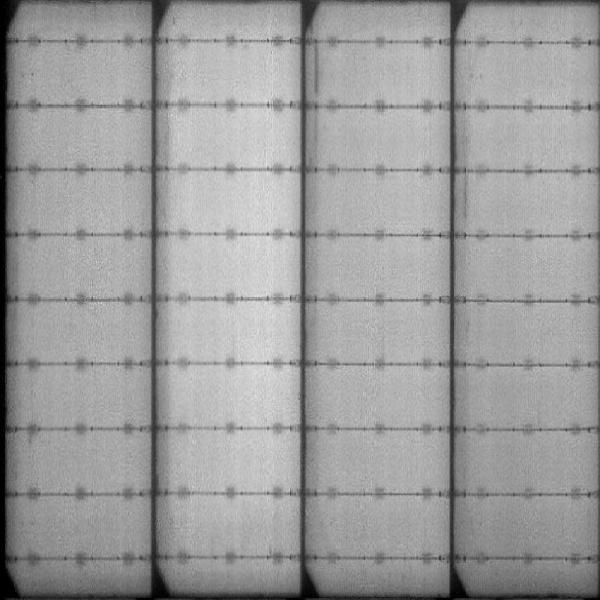scratch: (311, 43, 323, 163), (459, 175, 472, 226)
